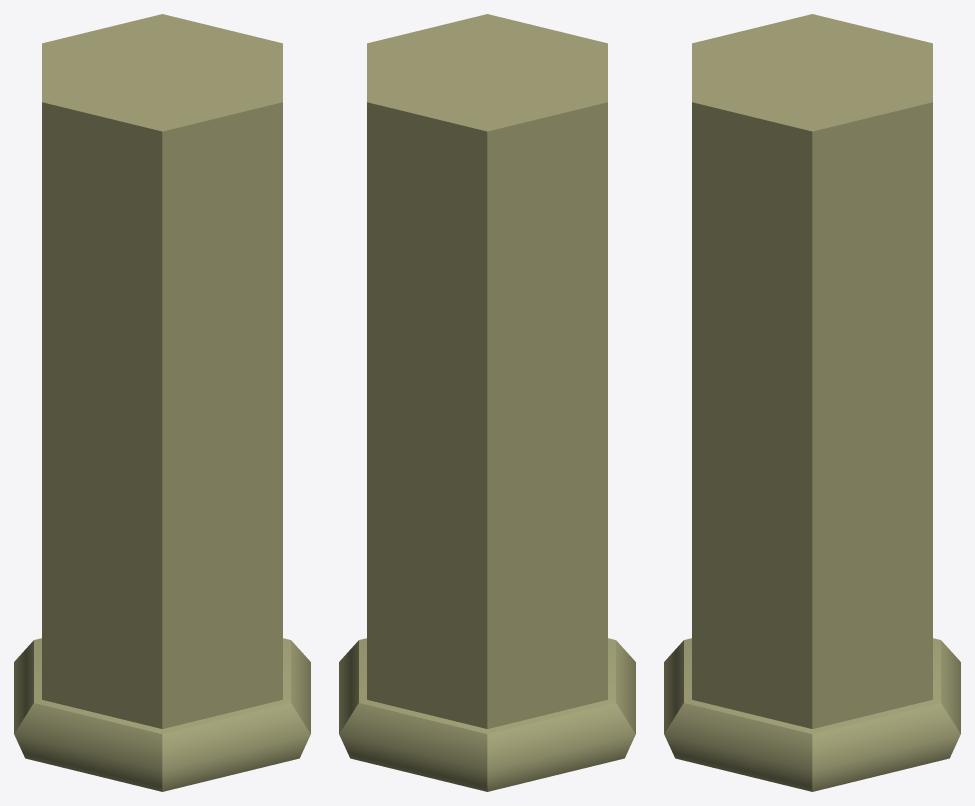
The model's file is 09_Colonne_cassee.fbx.
3 renders of one model, left to right at view 1: azimuth 30°, elevation 25°; view 2: azimuth 150°, elevation 25°; view 3: azimuth 270°, elevation 25°, orthographic.
Visible parts, largest first — view 1: Colonne_02; view 2: Colonne_02; view 3: Colonne_02.
Part boxes in pixels (x1,y1,x2,y2): Colonne_02: [14, 14, 310, 791]; Colonne_02: [339, 14, 635, 791]; Colonne_02: [664, 14, 960, 791].
Size of the model in its own units: 0.7964 by 1.68 by 0.6897.
